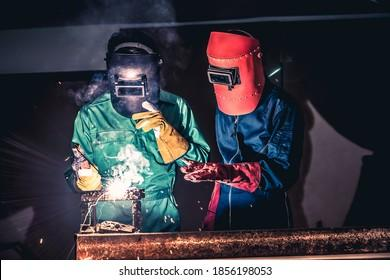gloves: (131, 99, 190, 163), (179, 158, 263, 194), (72, 148, 104, 193)
